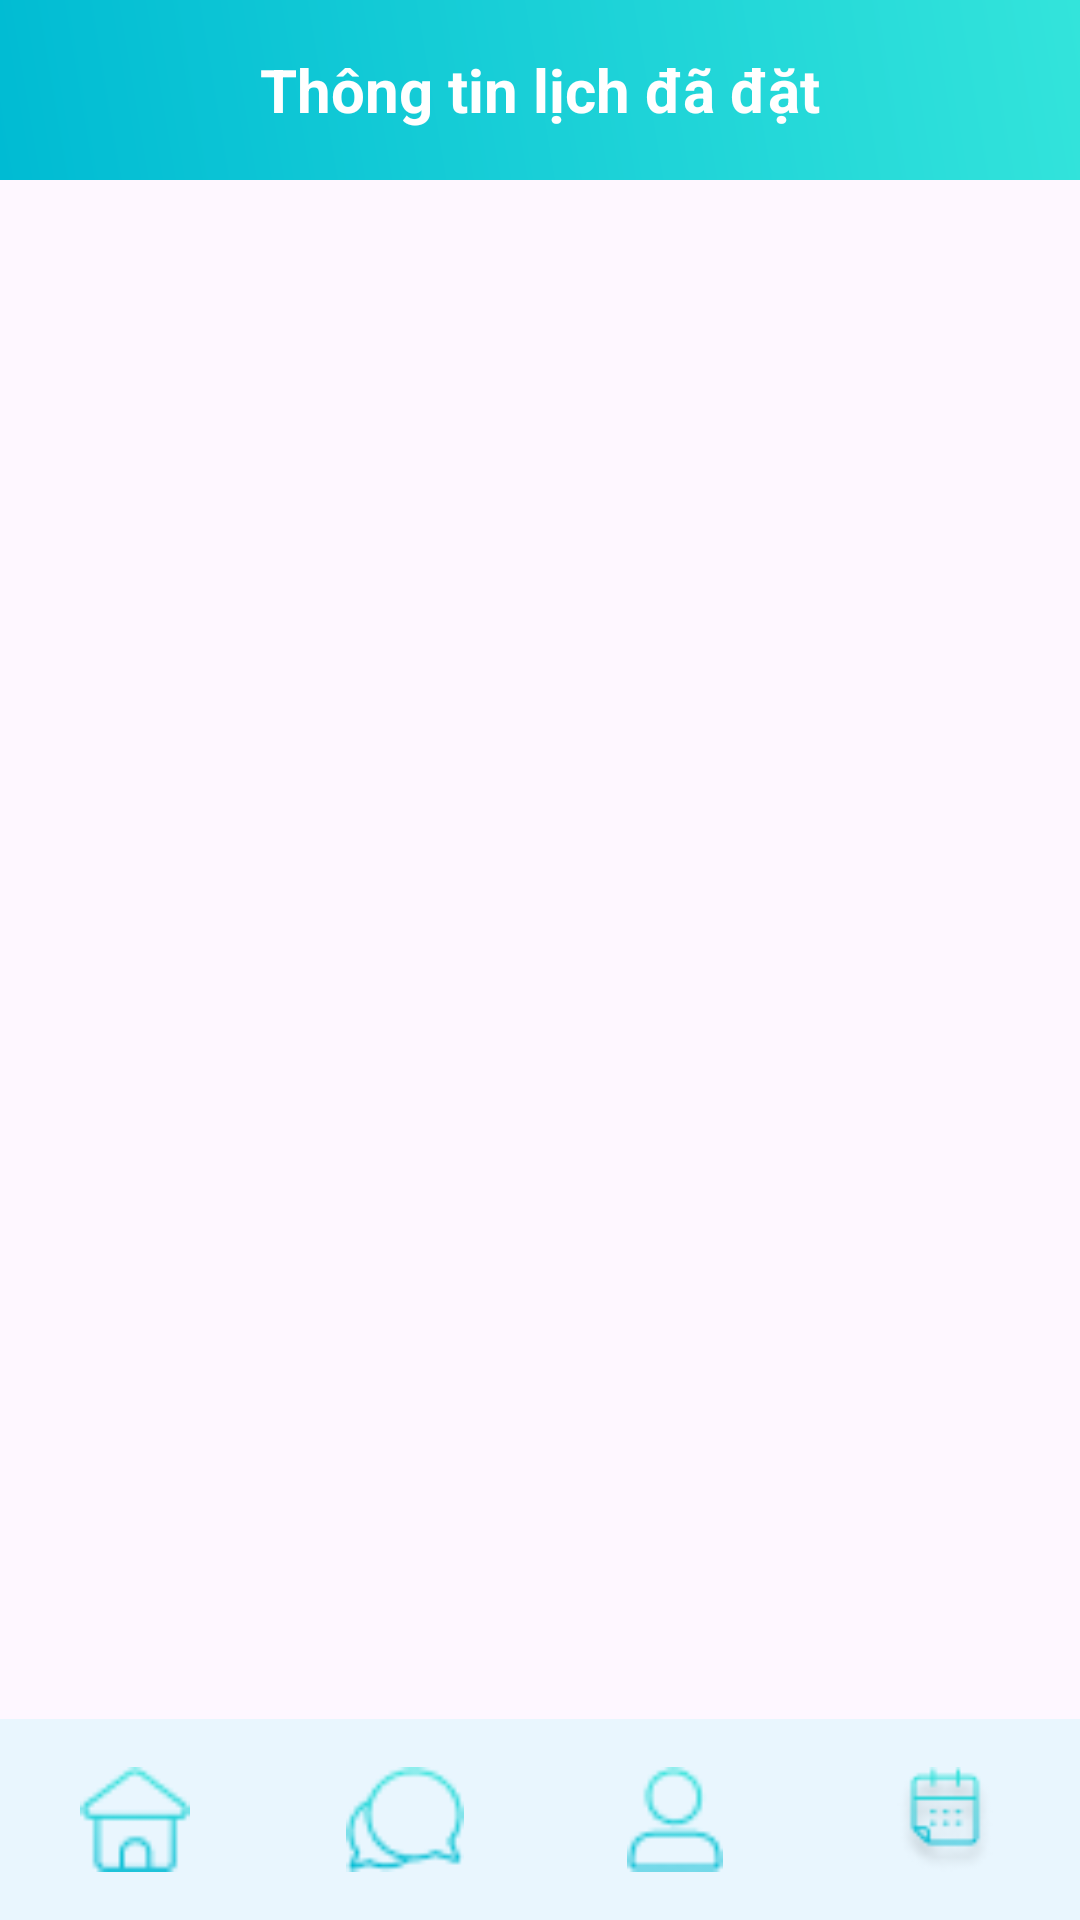

Icon click points for this 1080x1920 phone screenshot, format point (x, y):
booking: point (945, 1807)
home: point (135, 1819)
mess: point (405, 1819)
profile: point (675, 1819)
